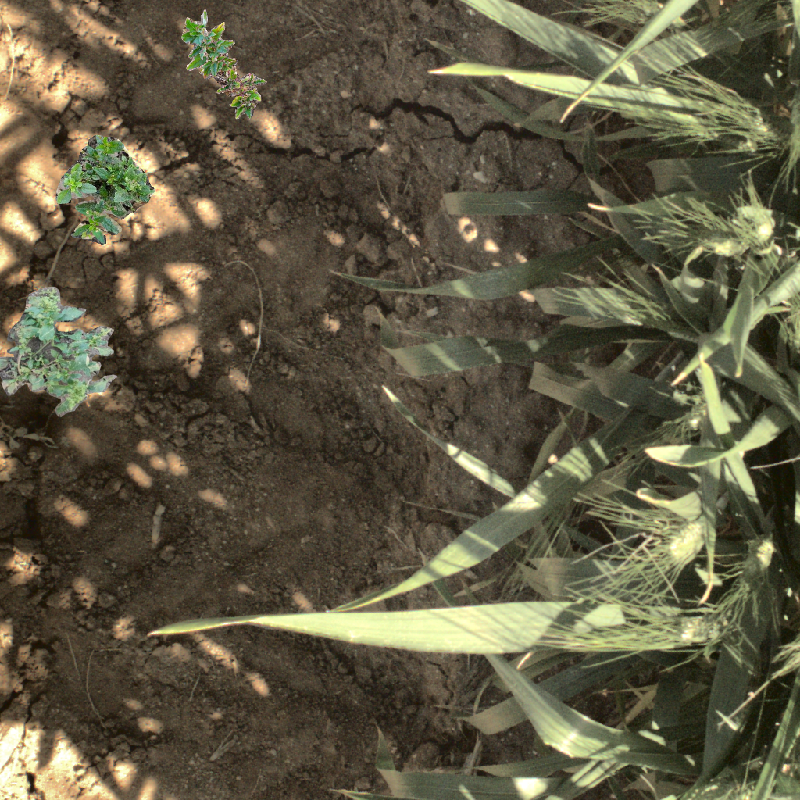spikelet: (685, 89, 787, 147), (606, 610, 733, 651)
weed: (1, 287, 118, 417), (38, 123, 153, 241), (161, 1, 267, 117)
